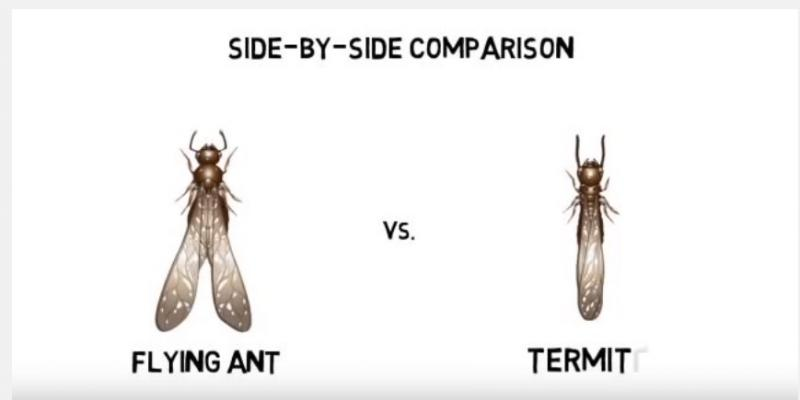flying termite: (546, 126, 635, 332)
